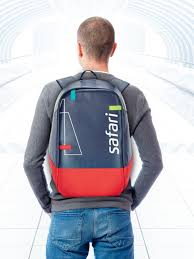backpack: (44, 69, 133, 199)
